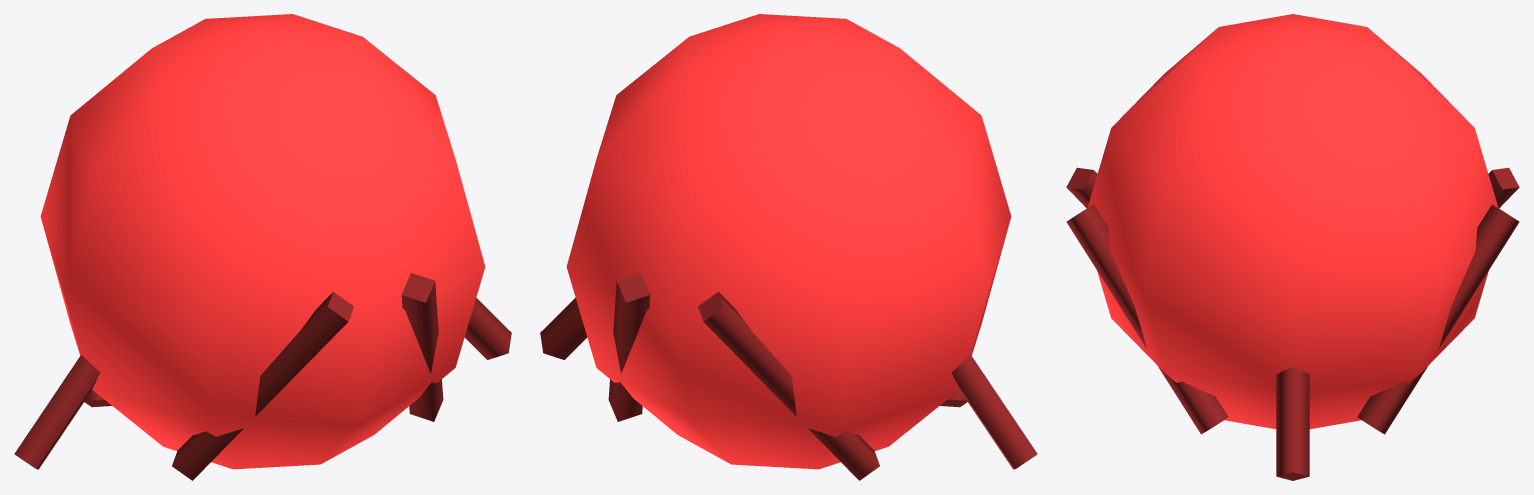
File: bug.glb
The picture shows the model from 3 angles, left to right: view 1: azimuth 30°, elevation 25°; view 2: azimuth 150°, elevation 25°; view 3: azimuth 270°, elevation 25°; orthographic projection. The views are drawn at different scales.
Bounding box in the file's own units: 0.6239 × 0.5 × 0.5398.
